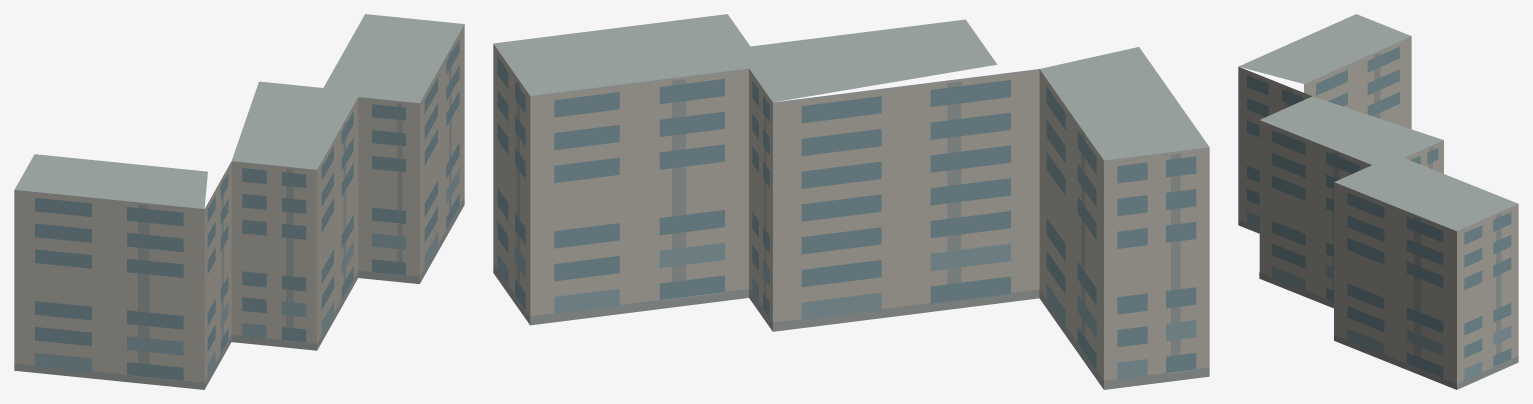
The model's file is residential-4f5fb4c6-6f4d-4469-b625-87514493915d.glb.
3 views of the same model, side by side, from view 1: azimuth 30°, elevation 25°; view 2: azimuth 150°, elevation 25°; view 3: azimuth 270°, elevation 25° (orthographic). The views are drawn at different scales.
Parts seen in each view (by area): view 1: residential-4f5fb4c6-6f4d-4469-b625-87514493915d.tmp; view 2: residential-4f5fb4c6-6f4d-4469-b625-87514493915d.tmp; view 3: residential-4f5fb4c6-6f4d-4469-b625-87514493915d.tmp.
Boxes of the visible parts, left/top/right/bottom form: residential-4f5fb4c6-6f4d-4469-b625-87514493915d.tmp: left=14, top=14, right=464, bottom=389; residential-4f5fb4c6-6f4d-4469-b625-87514493915d.tmp: left=493, top=14, right=1209, bottom=389; residential-4f5fb4c6-6f4d-4469-b625-87514493915d.tmp: left=1238, top=14, right=1518, bottom=389.
Size of the model in its own units: 61.68 by 21 by 33.63.
